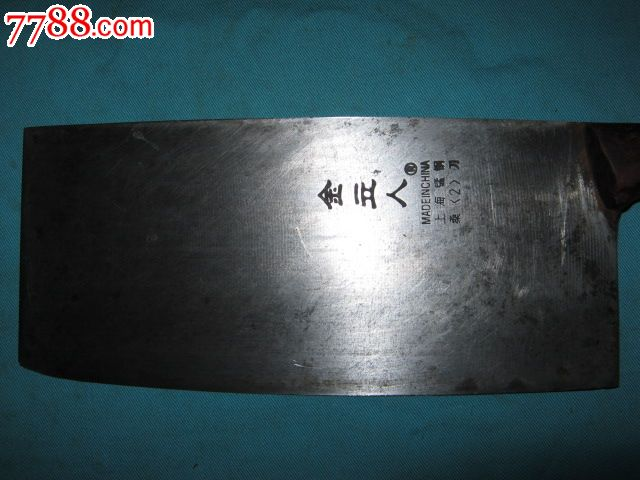knief: (7, 110, 626, 395)
